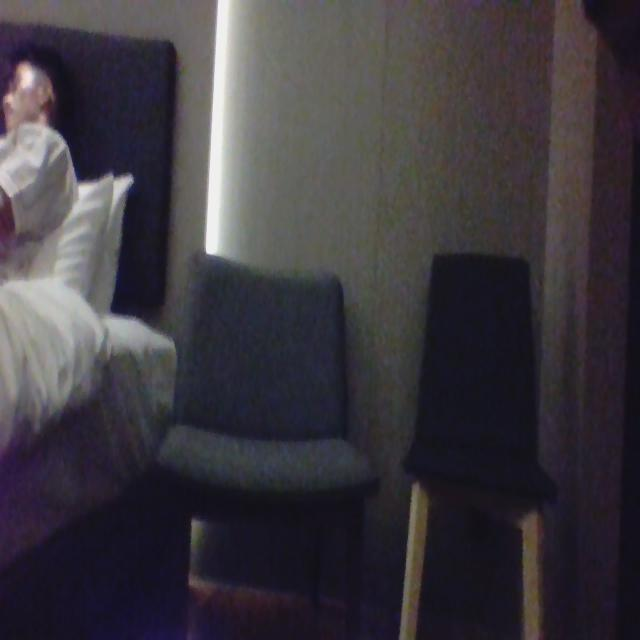empty: (180, 212, 346, 444), (412, 237, 552, 455)
